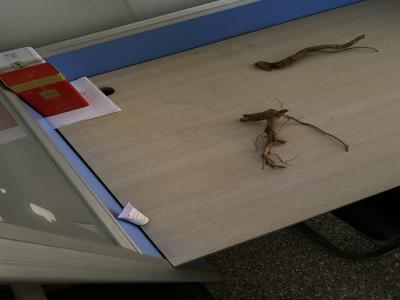Root: (240, 109, 348, 169), (254, 34, 378, 71)
